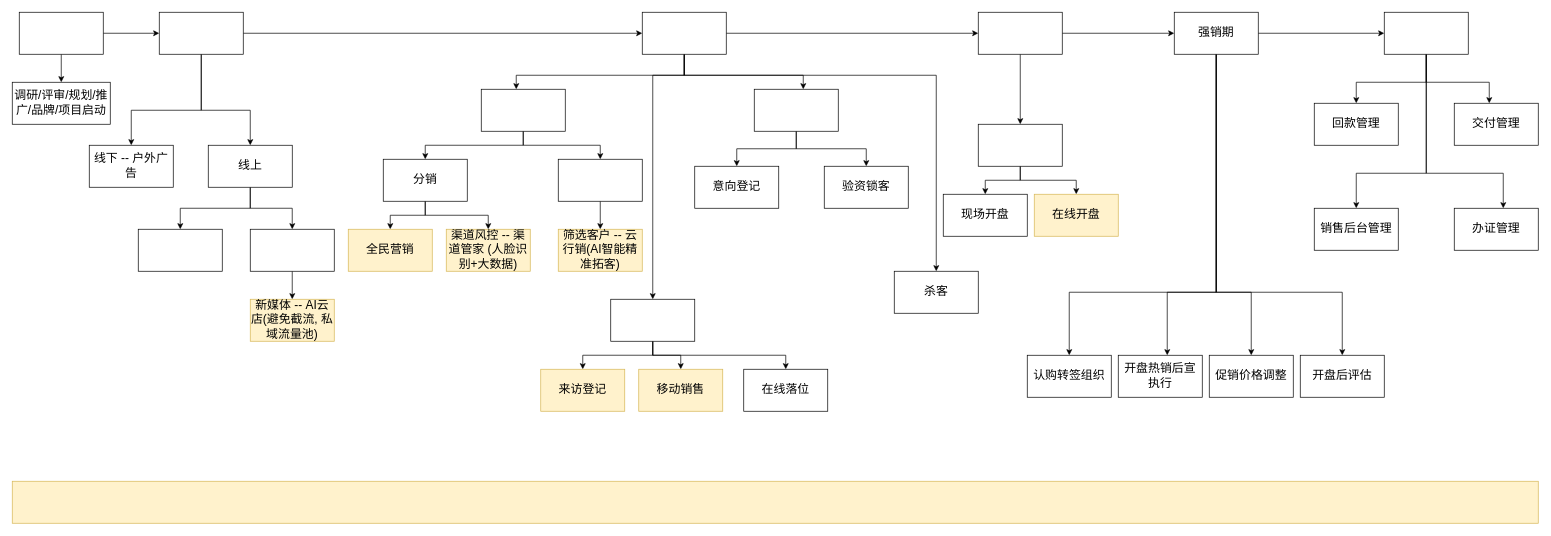
Image size: 1551x536. Some labels were removed from this diagram. The centre of each missing label's shape, as x and y in pixels:
前期准备期: the point at 61,33
品牌导入期 -- 推广: the point at 201,33
开盘期: the point at 1020,33
影视/报纸/电台: the point at 180,250
拓客: the point at 523,110
持销期: the point at 1426,33
收客: the point at 652,320
移动销售 来访登记: the point at 775,502
网络: the point at 292,250
行销: the point at 600,180
选楼: the point at 1020,145
锁客: the point at 796,110
集中蓄客期: the point at 684,33
